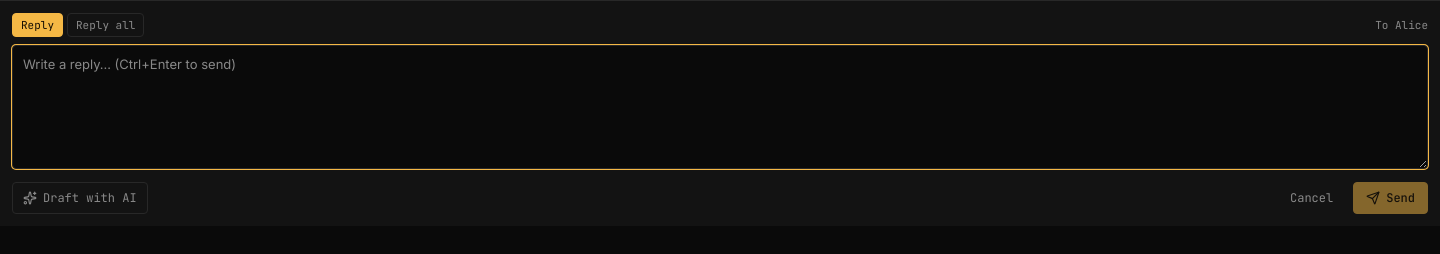
Test: ReplyComposer draft with AI › leaves the button enabled and shows a clearable message on reply_draft_failed
This screenshot has width=1440, height=254.
Click the button "Draft with AI" at (80, 198), box [12,182,148,214]
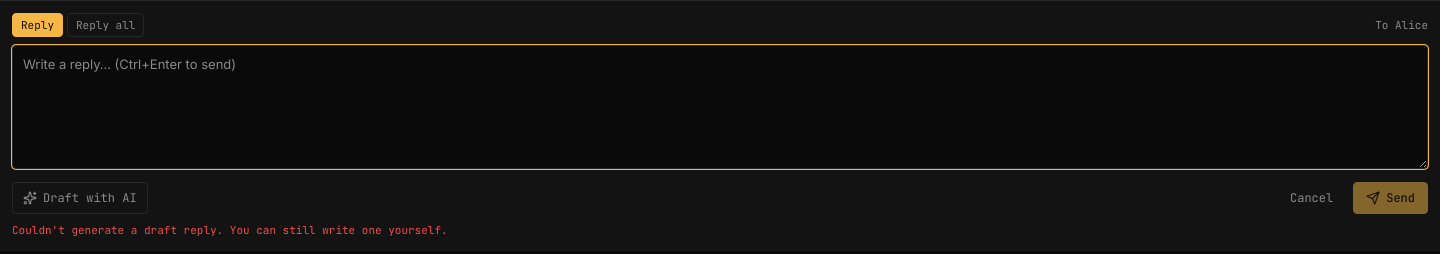
Now the message "Couldn't generate a draft reply. You can still write one yourself." is shown, box [12,223,448,237]
Click the button "Draft with AI" at (80, 198), box [12,182,148,214]
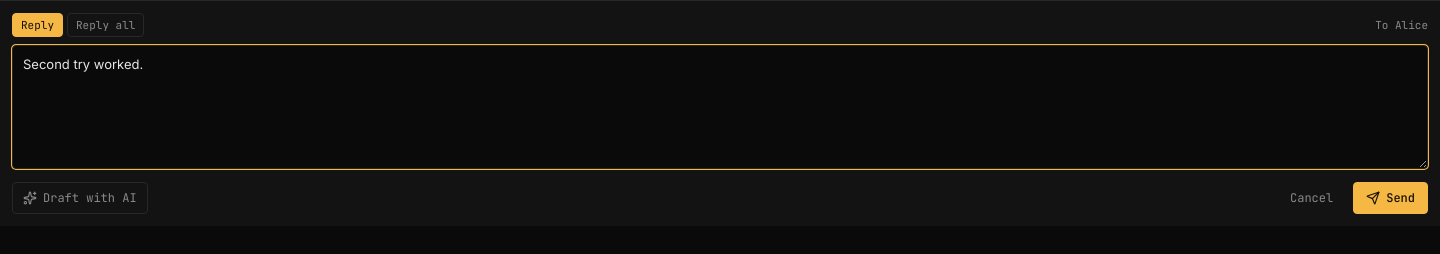
Now the text box holds "Second try worked.", box [12,45,1428,169]
Now the message "Couldn't generate a draft reply. You can still write one yourself." is gone
